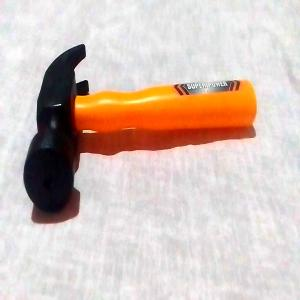martelo: (21, 40, 260, 211)
